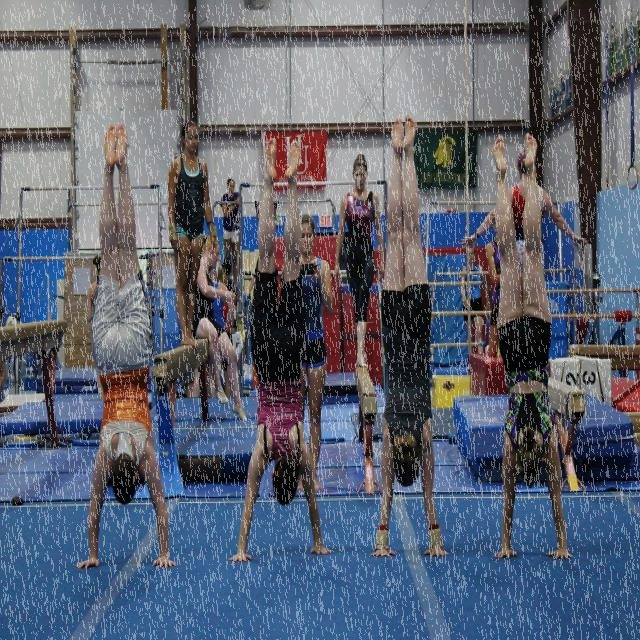pessoa: (70, 121, 180, 574), (225, 128, 338, 568), (365, 107, 454, 564), (490, 125, 577, 570), (461, 146, 590, 284), (161, 115, 220, 354), (328, 150, 387, 378), (294, 208, 336, 494), (192, 232, 250, 423), (208, 264, 238, 409), (459, 244, 491, 374), (218, 166, 244, 288), (484, 230, 502, 358), (216, 252, 240, 326), (90, 246, 108, 334)
